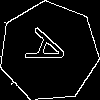A: (24, 27, 79, 75)
